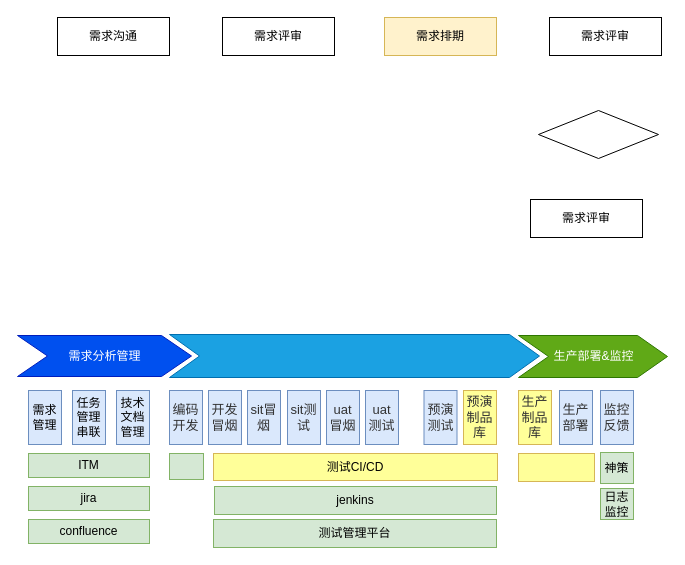
Some shapes in this 685 by 565 pixel diagram are drawn without their labels. The box of each missing label's shape, as (x1, y1, x2, y2) in pixels:
gitlab: (168, 452, 204, 480)
持续集成&测试: (168, 334, 540, 378)
生产CD: (518, 452, 594, 482)
简易需求: (538, 110, 658, 158)
